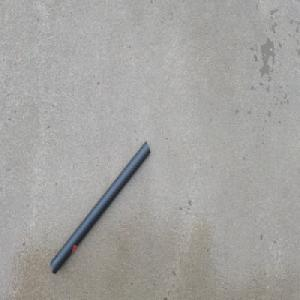LuggagePart: (49, 139, 151, 273)
